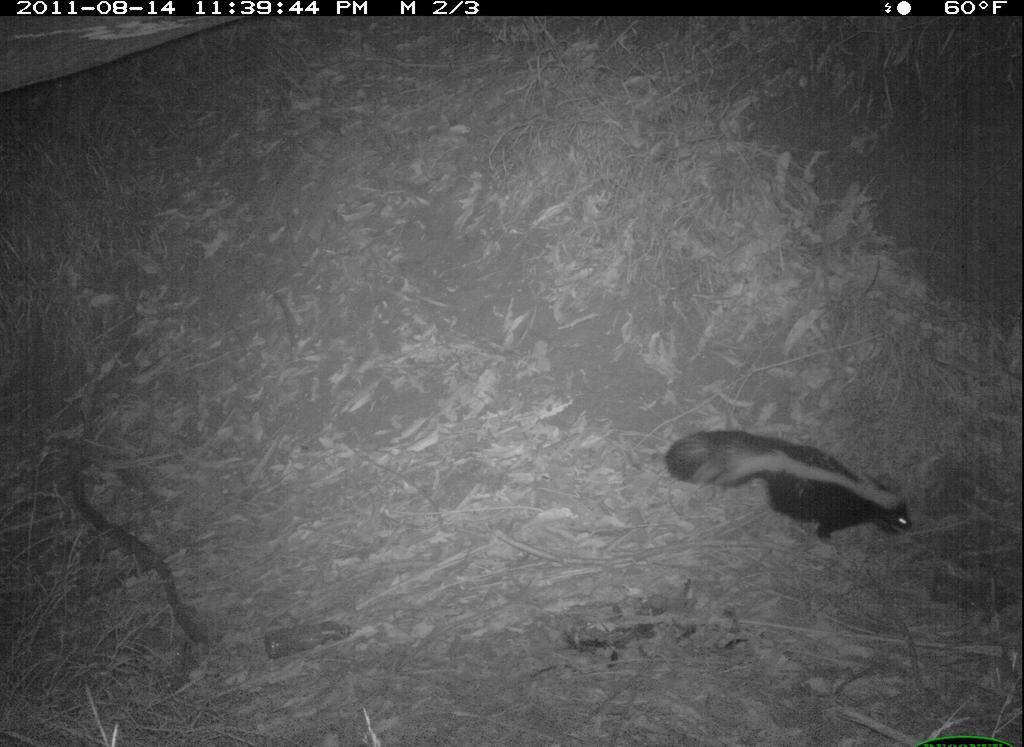skunk: (660, 395, 937, 571)
